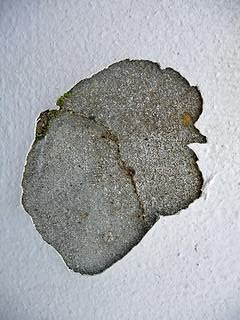Crack: (58, 107, 146, 229)
Spalling: (20, 58, 208, 276)
